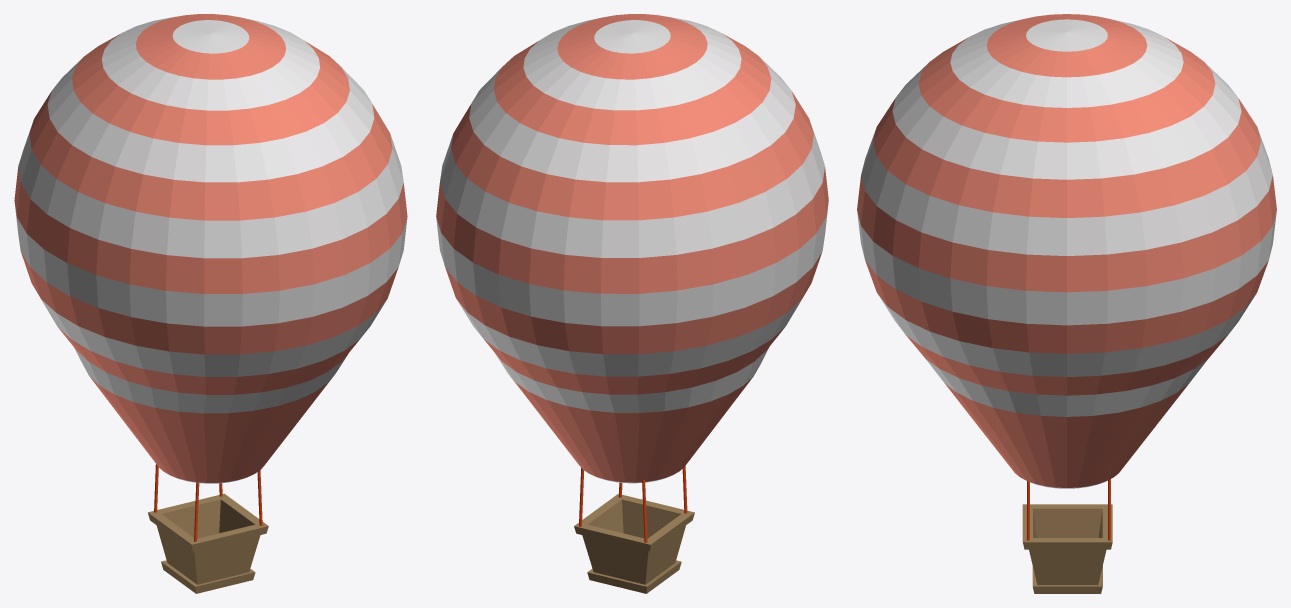
File: baloon.fbx
3 renders of one model, left to right at view 1: azimuth 30°, elevation 25°; view 2: azimuth 150°, elevation 25°; view 3: azimuth 270°, elevation 25°, orthographic.
Visible parts, largest first — view 1: balon, bascet; view 2: balon, bascet; view 3: balon, bascet.
Boxes of the visible parts, box(x1,y1,x2,y2) form: balon: box(14, 14, 407, 483); bascet: box(148, 493, 268, 593); balon: box(436, 14, 828, 483); bascet: box(574, 493, 694, 593); balon: box(857, 14, 1276, 488); bascet: box(1022, 504, 1112, 593).
Bounding box in the file's own units: 100 × 155 × 107.
